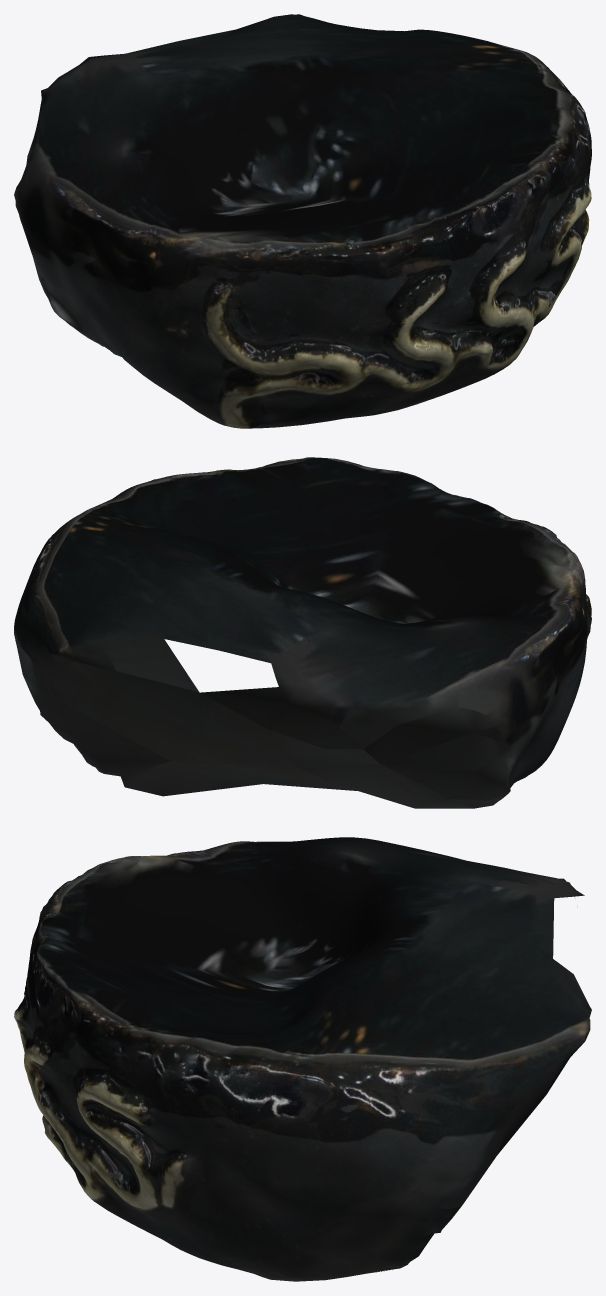
3 views of the same model, one above another, from view 1: azimuth 30°, elevation 25°; view 2: azimuth 150°, elevation 25°; view 3: azimuth 270°, elevation 25° (orthographic). The views are drawn at different scales.
Bounding box in the file's own units: 0.4796 × 0.2436 × 0.4407.
1 material, 1 textured.
